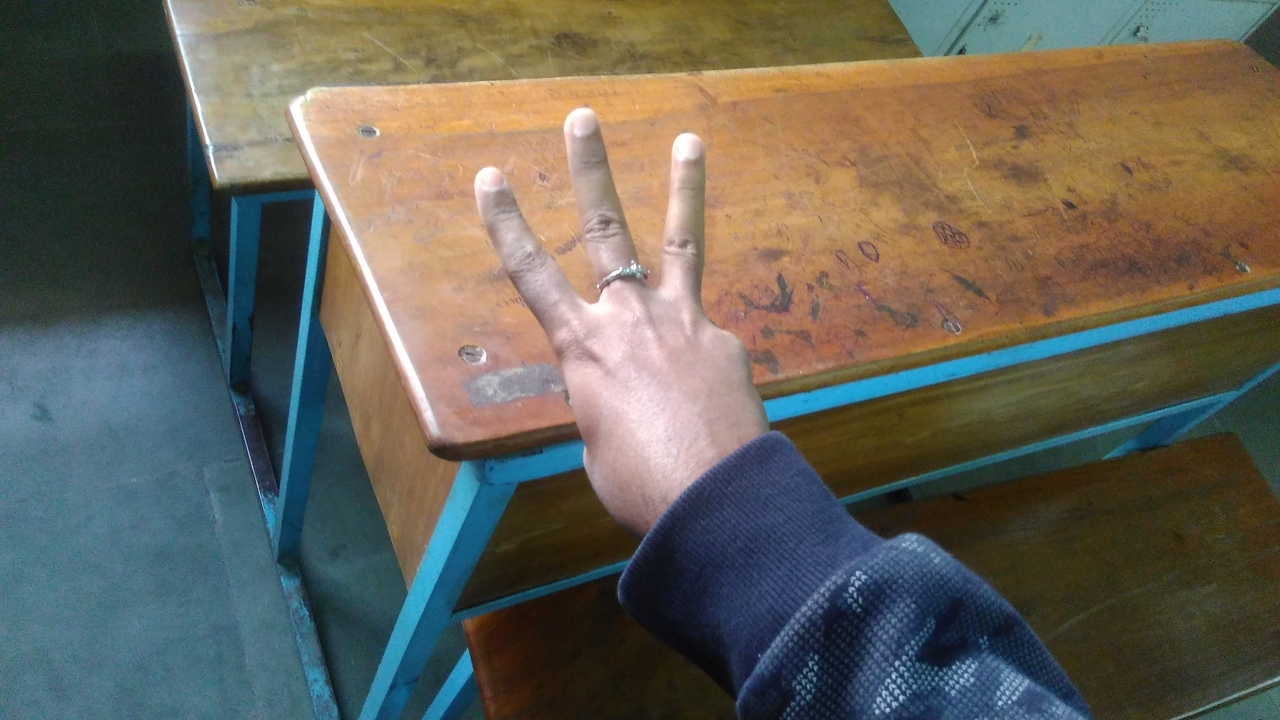fingertip: (462, 156, 522, 210), (660, 120, 712, 168), (554, 100, 608, 146)
